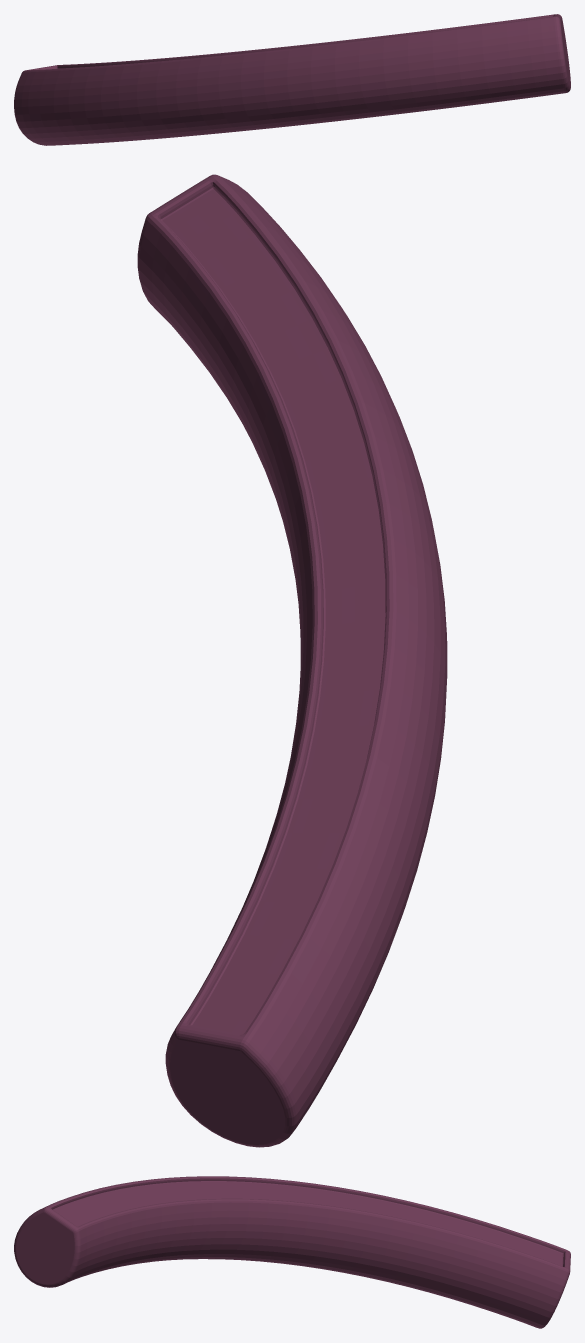
The model's file is Lampc.fbx.
3 renders of one model, top to bottom at view 1: azimuth 30°, elevation 25°; view 2: azimuth 150°, elevation 25°; view 3: azimuth 270°, elevation 25°, orthographic. The views are drawn at different scales.
Parts seen in each view (by area): view 1: BeInspiration_69:Circle002; view 2: BeInspiration_69:Circle002; view 3: BeInspiration_69:Circle002.
Part boxes in pixels (x1,y1,x2,y2): BeInspiration_69:Circle002: (14, 14, 570, 145); BeInspiration_69:Circle002: (137, 174, 447, 1147); BeInspiration_69:Circle002: (14, 1176, 570, 1328).
Bounding box in the file's own units: 44.95 × 33.23 × 68.35.
